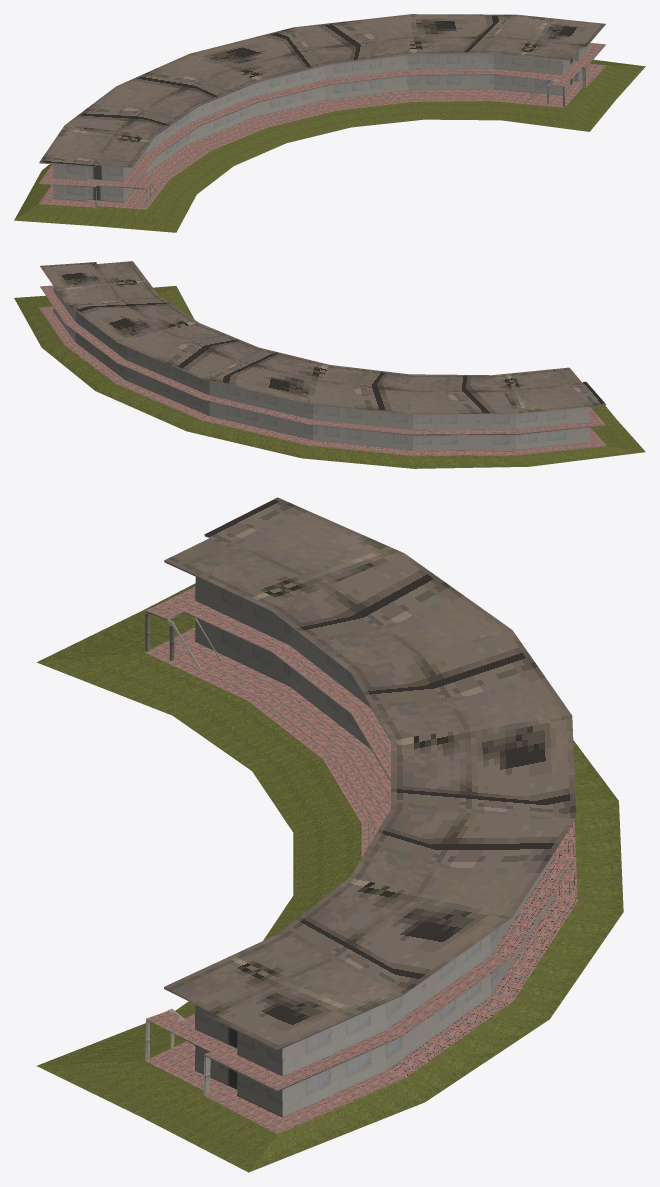
File: lodaprtmntsvgn03.obj
3 views of the same model, one above another, from view 1: azimuth 30°, elevation 25°; view 2: azimuth 150°, elevation 25°; view 3: azimuth 270°, elevation 25° (orthographic). The views are drawn at different scales.
Parts seen in each view (by area): view 1: lodaprtmntsvgN03; view 2: lodaprtmntsvgN03; view 3: lodaprtmntsvgN03.
Boxes of the visible parts, x1,y1,x2,y2 form: lodaprtmntsvgN03: (14, 14, 645, 232); lodaprtmntsvgN03: (14, 261, 645, 468); lodaprtmntsvgN03: (37, 497, 623, 1172).
Bounding box in the file's own units: 94.35 × 6.47 × 37.96.
Materials: 5 (5 with a texture image).
